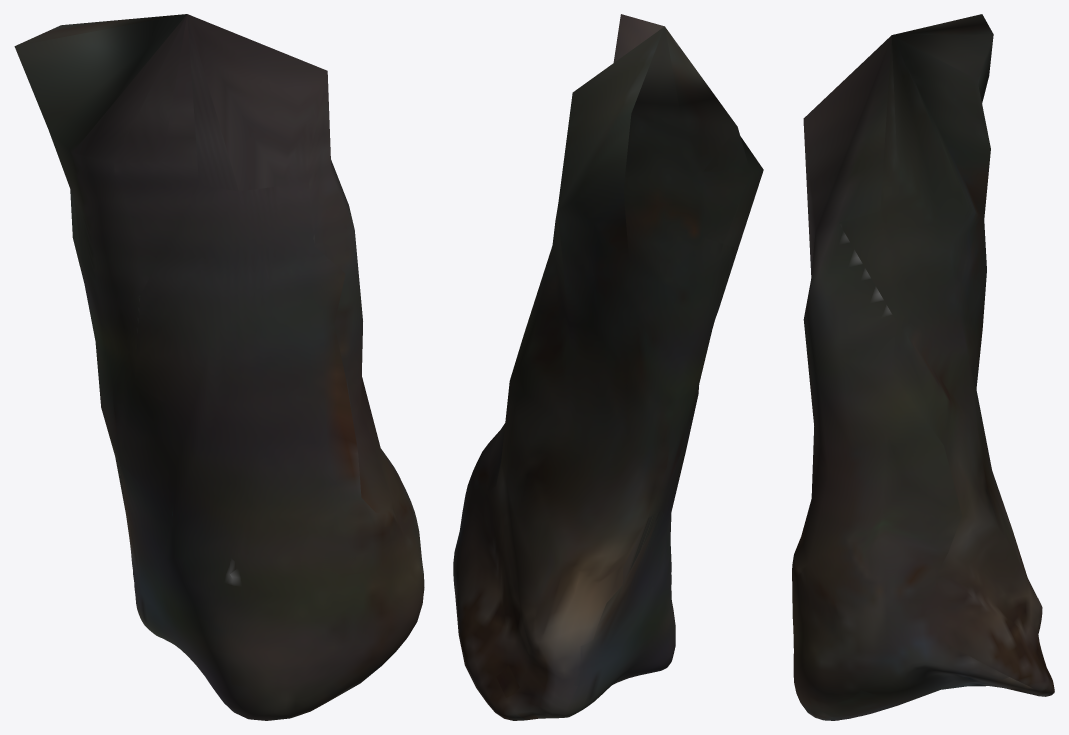
The model's file is trompa_Baja.obj.
The picture shows the model from 3 angles, left to right: view 1: azimuth 30°, elevation 25°; view 2: azimuth 150°, elevation 25°; view 3: azimuth 270°, elevation 25°; orthographic projection. The views are drawn at different scales.
Visible parts, largest first — view 1: trompa_Baja; view 2: trompa_Baja; view 3: trompa_Baja.
Part boxes in pixels (left/top/right/bottom): trompa_Baja: left=14, top=14, right=424, bottom=720; trompa_Baja: left=453, top=14, right=763, bottom=720; trompa_Baja: left=792, top=14, right=1054, bottom=720.
Size of the model in its own units: 19.21 by 37.6 by 13.93.
1 material, 1 textured.
